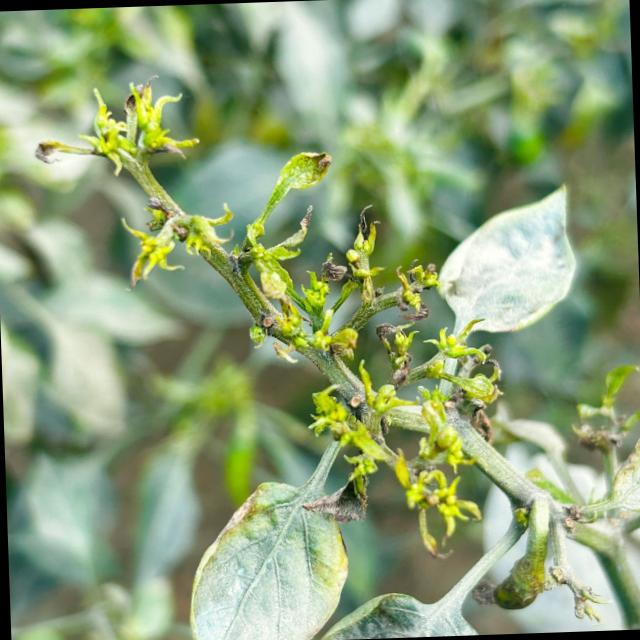Chilli_Leaf_Curl: (30, 58, 640, 640), (181, 435, 364, 640), (430, 180, 579, 338), (241, 148, 334, 245), (486, 492, 554, 610)
